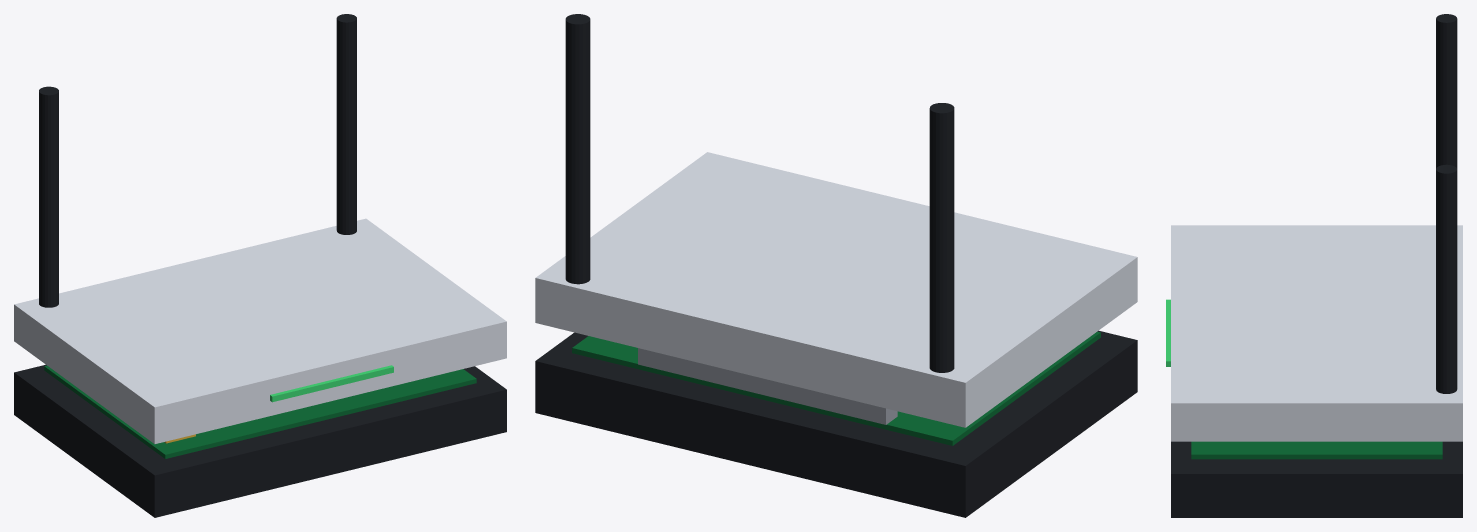
The model's file is router.glb.
3 views of the same model, side by side, from view 1: azimuth 30°, elevation 25°; view 2: azimuth 150°, elevation 25°; view 3: azimuth 270°, elevation 25° (orthographic). The views are drawn at different scales.
Parts seen in each view (by area): view 1: lid, base, pcb, antenna_right, antenna_left, leds; view 2: lid, base, antenna_right, antenna_left, pcb, ports; view 3: lid, base, antenna_right, pcb, antenna_left.
Boxes of the visible parts, box(x1,y1,x2,y2) form: lid: box(14, 218, 506, 443); base: box(14, 364, 506, 517); pcb: box(44, 365, 476, 458); antenna_right: box(336, 14, 356, 234); antenna_left: box(39, 86, 58, 307); leds: box(270, 365, 393, 402); lid: box(535, 152, 1137, 427); base: box(535, 330, 1137, 517); antenna_right: box(565, 14, 590, 284); antenna_left: box(929, 103, 954, 372); pcb: box(572, 331, 1100, 445); ports: box(638, 348, 897, 424); lid: box(1171, 225, 1462, 441); base: box(1171, 441, 1462, 517); antenna_right: box(1436, 164, 1457, 393); pcb: box(1191, 441, 1442, 459); antenna_left: box(1436, 14, 1457, 168).
Size of the model in its own units: 0.26 by 0.228 by 0.183.
